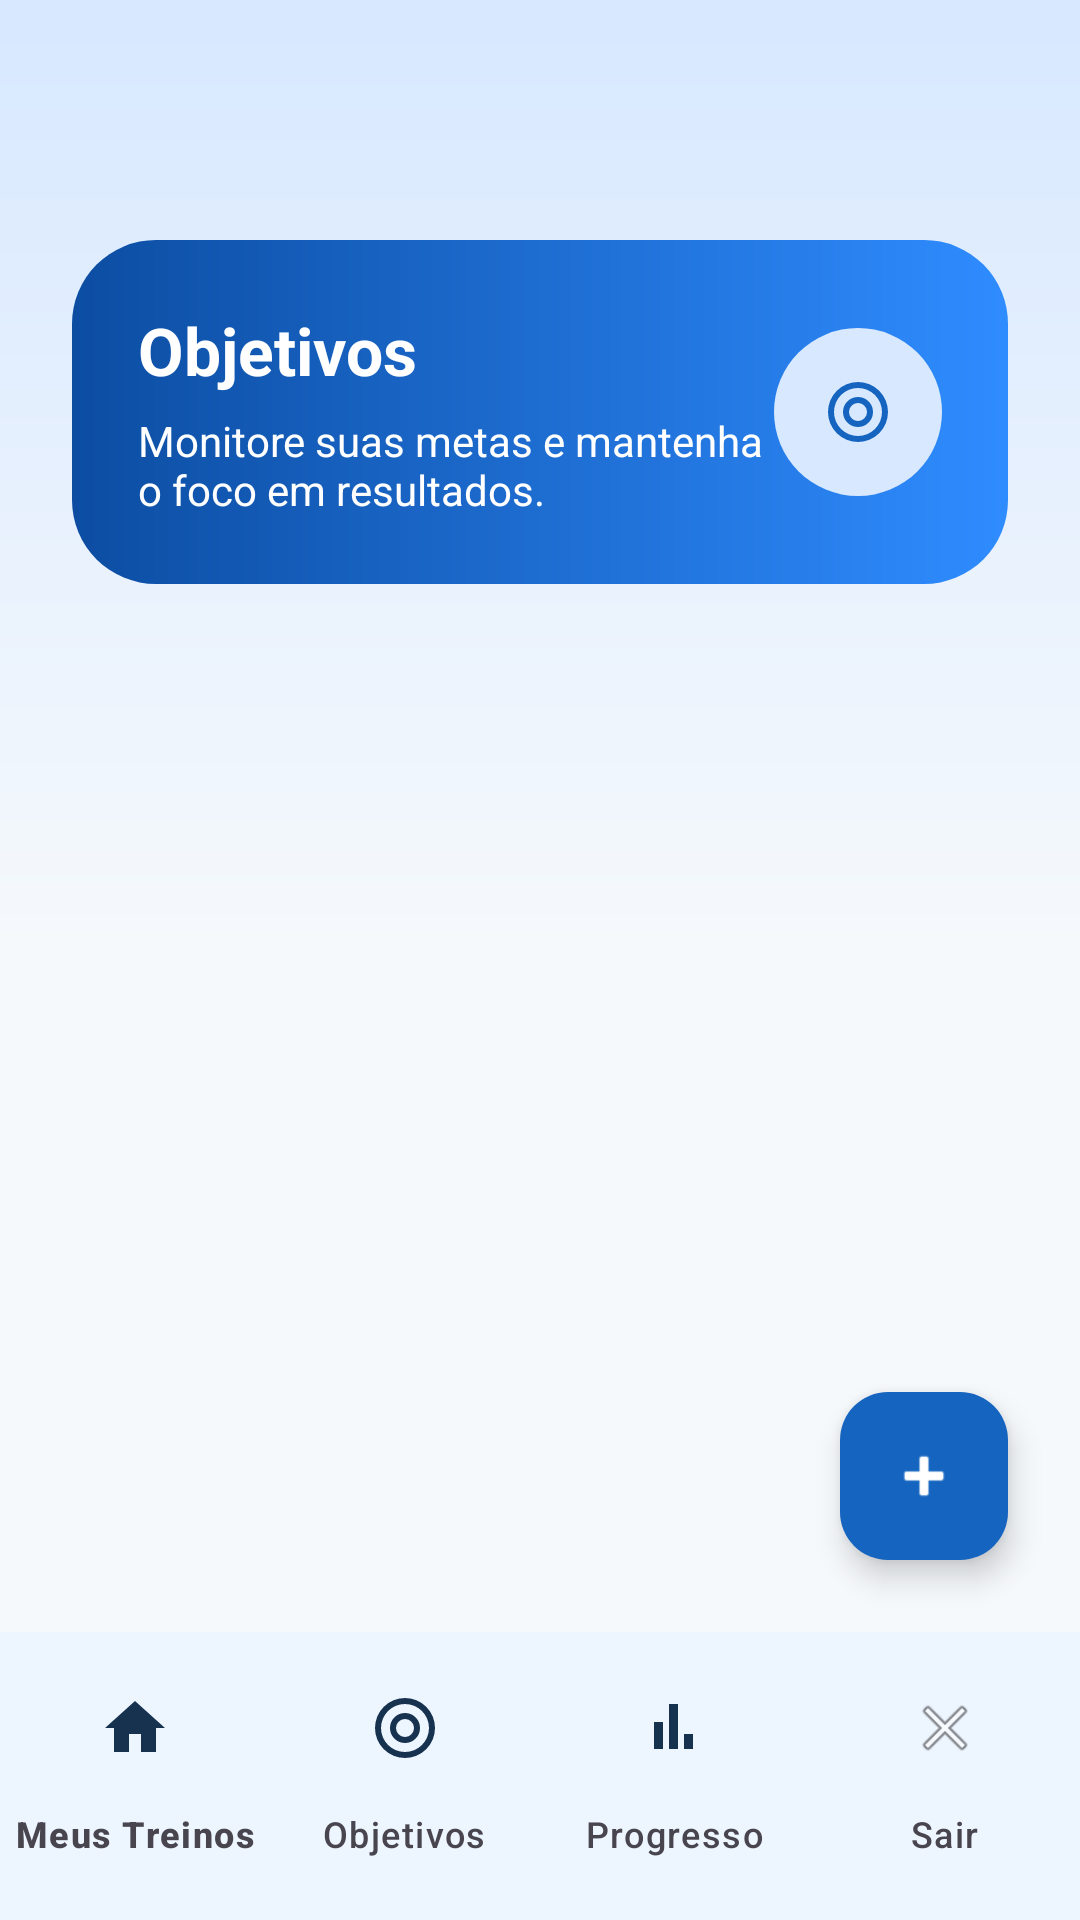

Named icons in this screenshot (1080px×1920px) and their centers, (x,y):
Adicionar objetivo: (924,1476)
